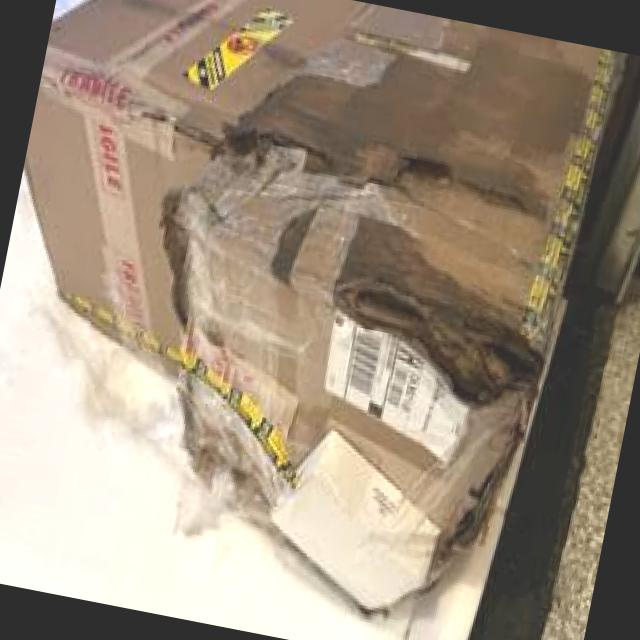package_damage: (79, 35, 608, 640)
